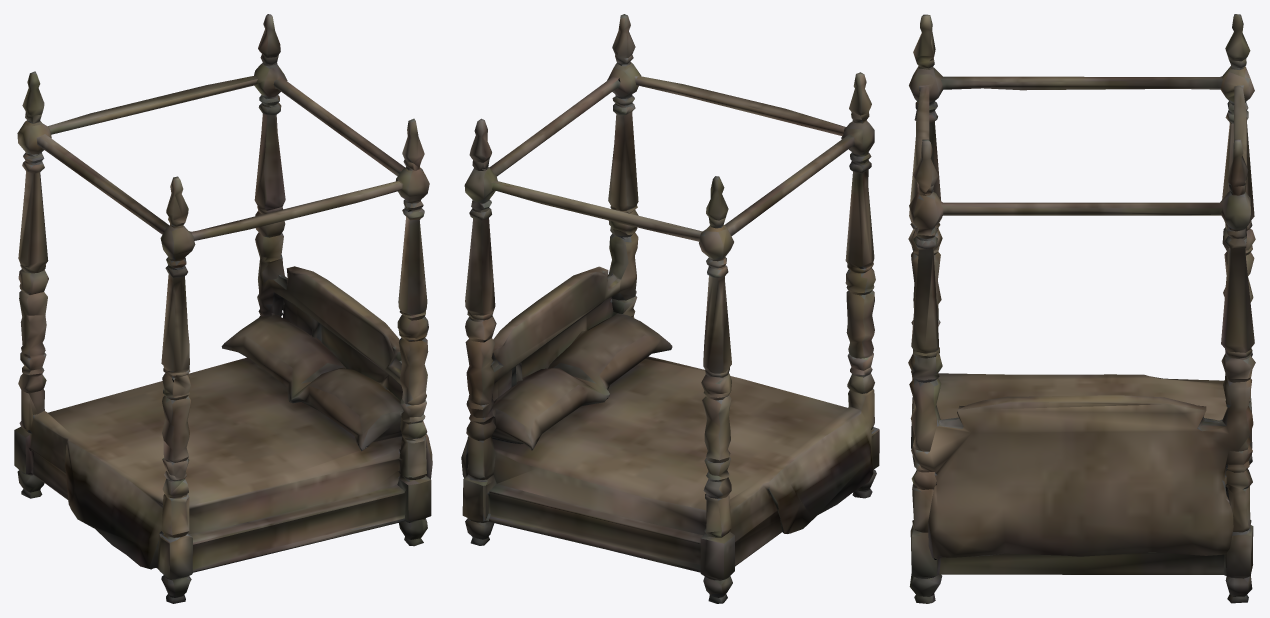
Rendered from ornate-wood-four-poster-bed-v001.glb.
The picture shows the model from 3 angles, left to right: view 1: azimuth 30°, elevation 25°; view 2: azimuth 150°, elevation 25°; view 3: azimuth 270°, elevation 25°; orthographic projection. The views are drawn at different scales.
Visible parts, largest first — view 1: ornate-wood-four-poster-bed; view 2: ornate-wood-four-poster-bed; view 3: ornate-wood-four-poster-bed.
Boxes of the visible parts, bbox=[...] form: ornate-wood-four-poster-bed: bbox=[14, 14, 432, 603]; ornate-wood-four-poster-bed: bbox=[461, 14, 879, 603]; ornate-wood-four-poster-bed: bbox=[908, 14, 1255, 603].
Bounding box in the file's own units: 1.61 × 2.26 × 1.55.
Materials: 1 (1 with a texture image).
